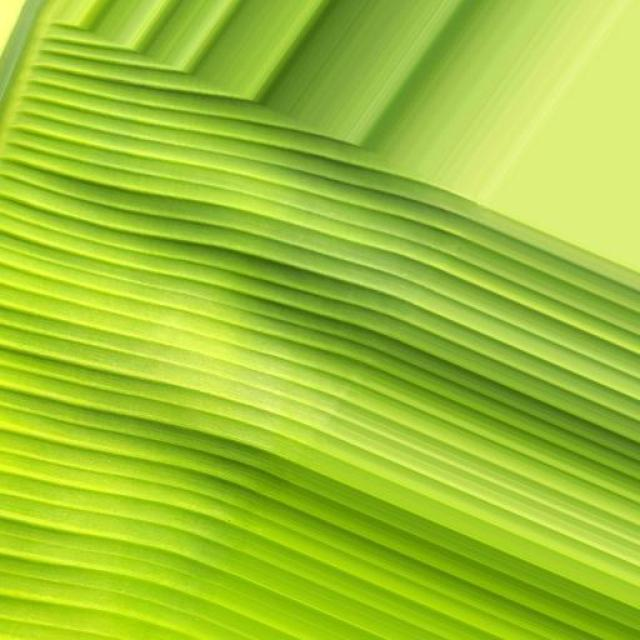Black_leaf_spot: (0, 13, 640, 634)
